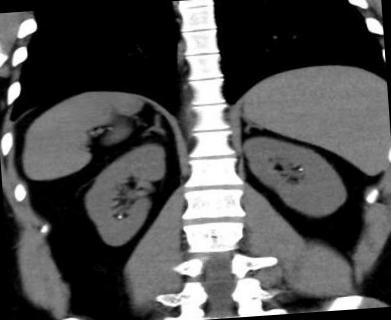Tas_Var: (115, 214, 124, 220), (296, 166, 304, 172)
